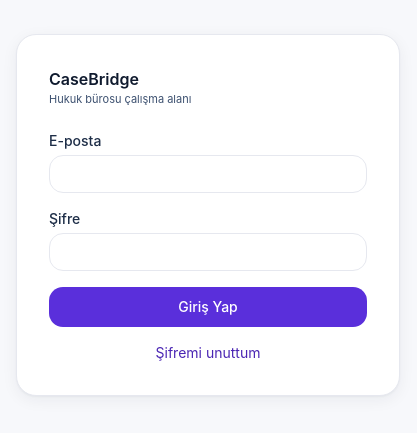
LoginView › shows the server's Turkish message for a failed login
Type "a@example.com" into the field labelled "E-posta". click: (208, 174)
box: [49, 155, 367, 193]
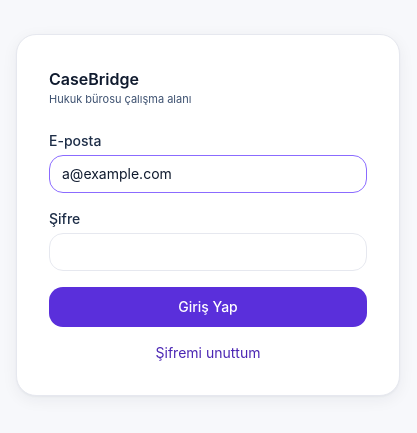
Type "yanlis" into the password field labelled "Şifre". click: (208, 252)
box: [49, 233, 367, 271]
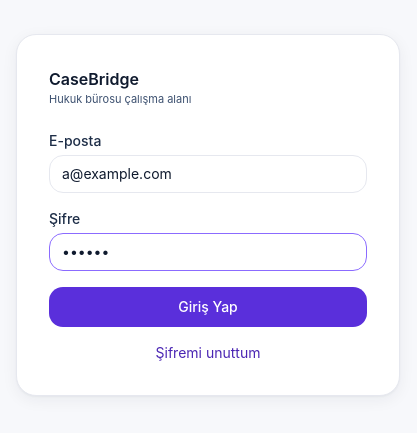
Click the button "Giriş Yap". click: (208, 307)
box: [49, 287, 367, 327]
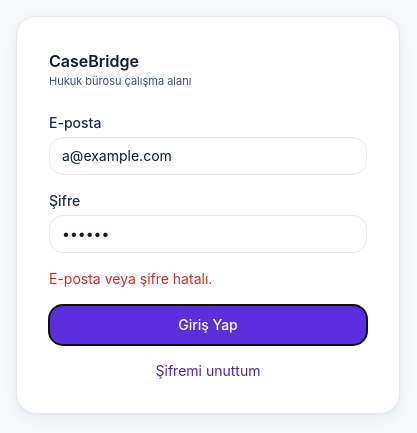
Now the message reads "E-posta veya şifre hatalı.", box [49, 270, 212, 287]
